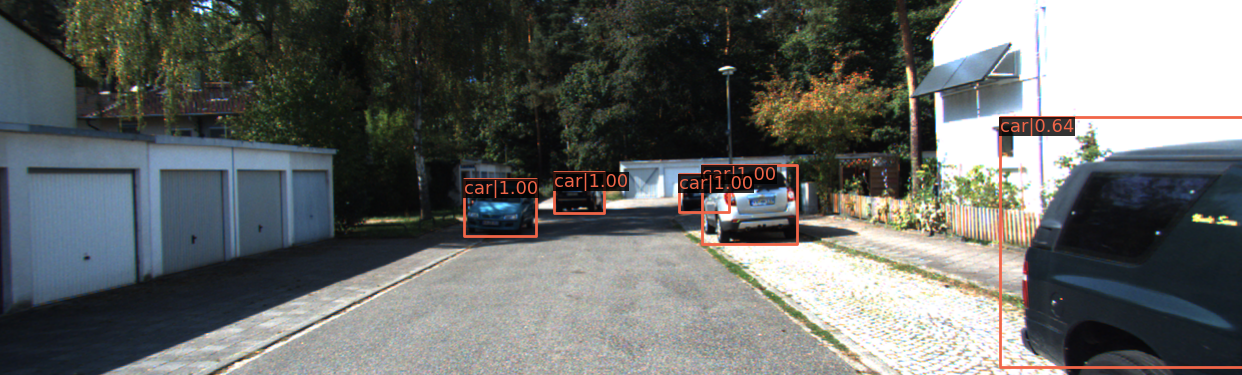car: (1006, 106, 1242, 375), (700, 168, 798, 245), (467, 181, 533, 233), (682, 175, 738, 211), (555, 178, 605, 214)
